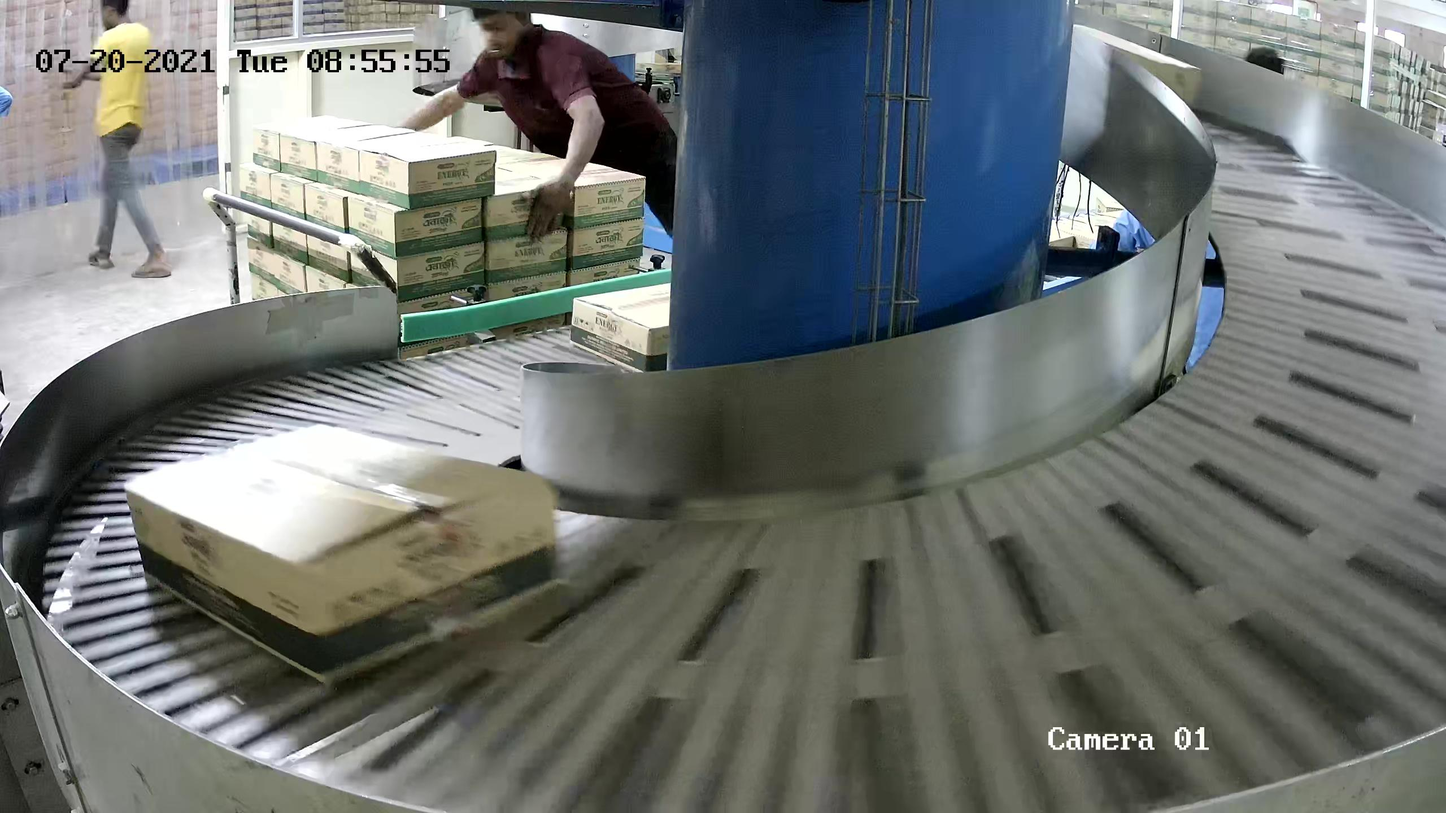Box: (122, 420, 566, 688), (569, 273, 768, 377)
